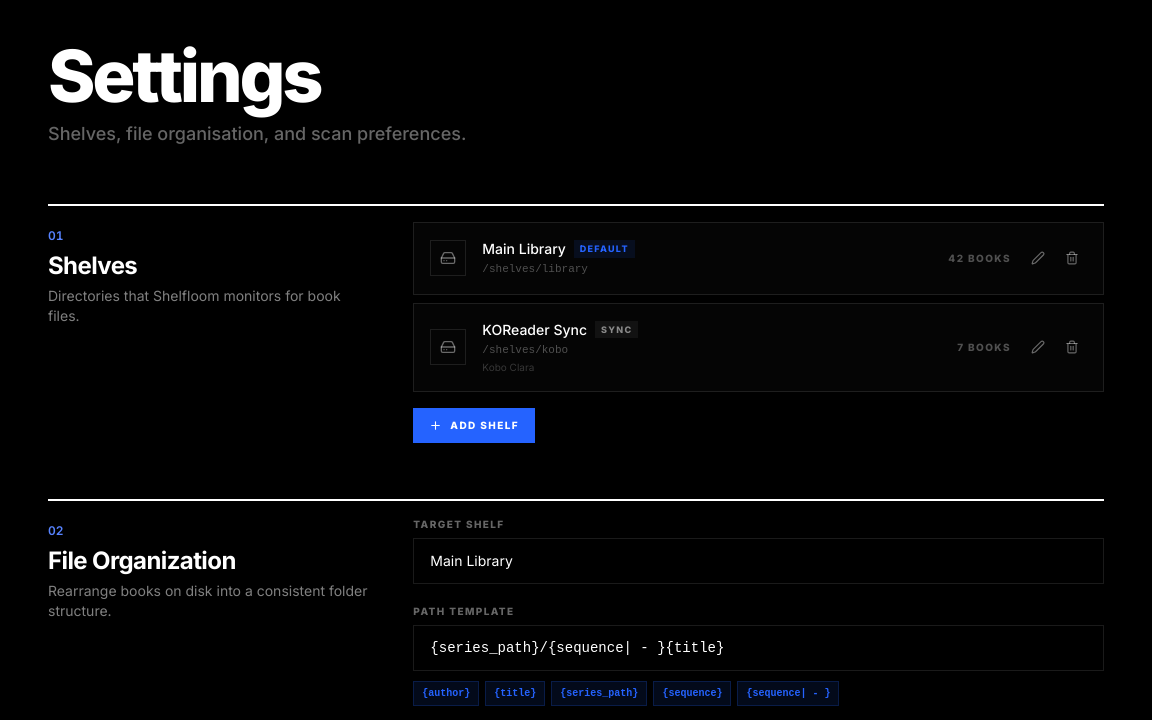
Test: Settings › edit shelf button opens modal
Expected: the element with test id "shelf-card-1" is shown, x1=413 y1=222 x2=1104 y2=294
Click the button named "Edit Main Library".
click(1038, 258)  # box x1=1023 y1=243 x2=1053 y2=273
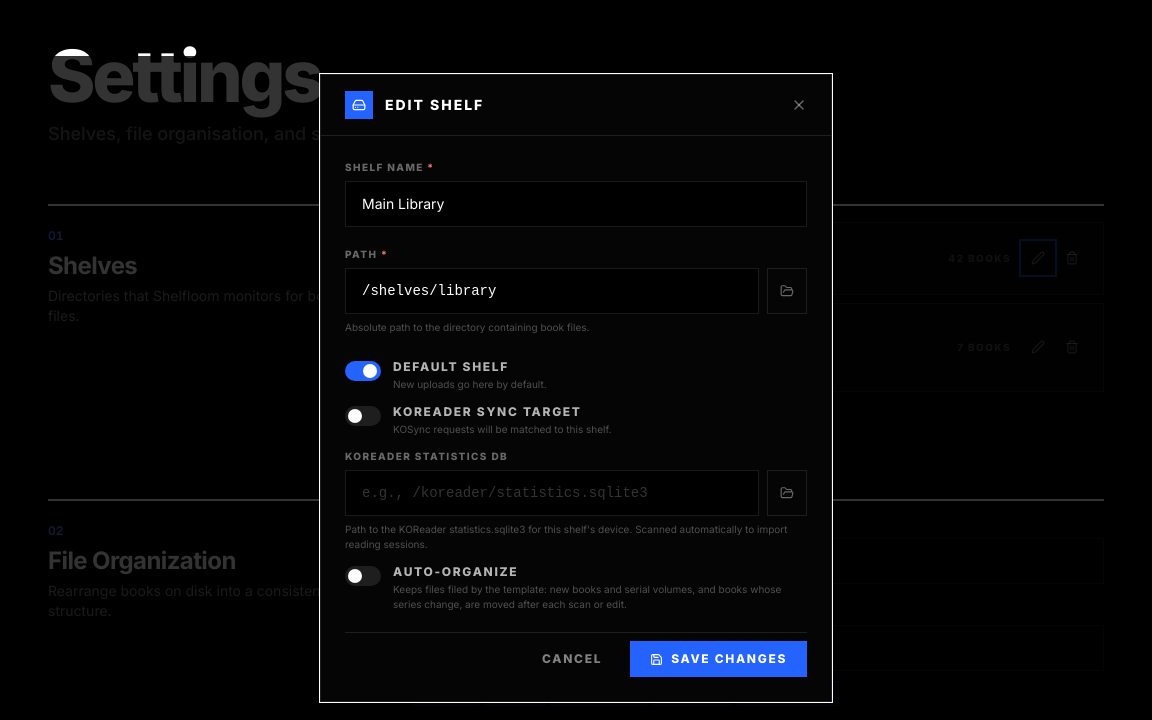
Expected: the element with test id "shelf-modal" is shown
